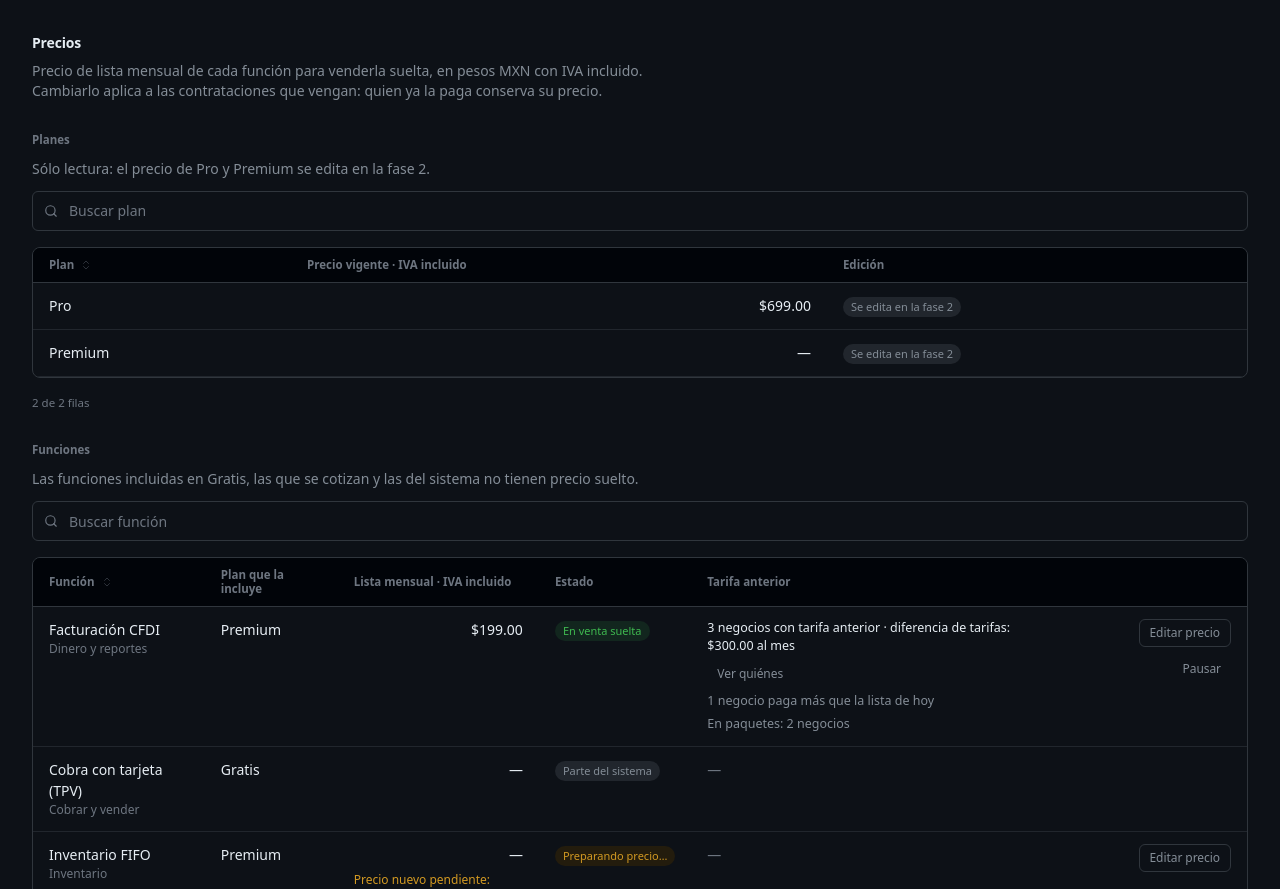
Test: PricingPage › confirms the price change and saves it with the row revision
Expected: the text "Facturación CFDI" is shown, [49,620,160,639]
Click the button with aria-label "Editar precio de Facturación CFDI": (1185, 633) [1138,619,1231,647]
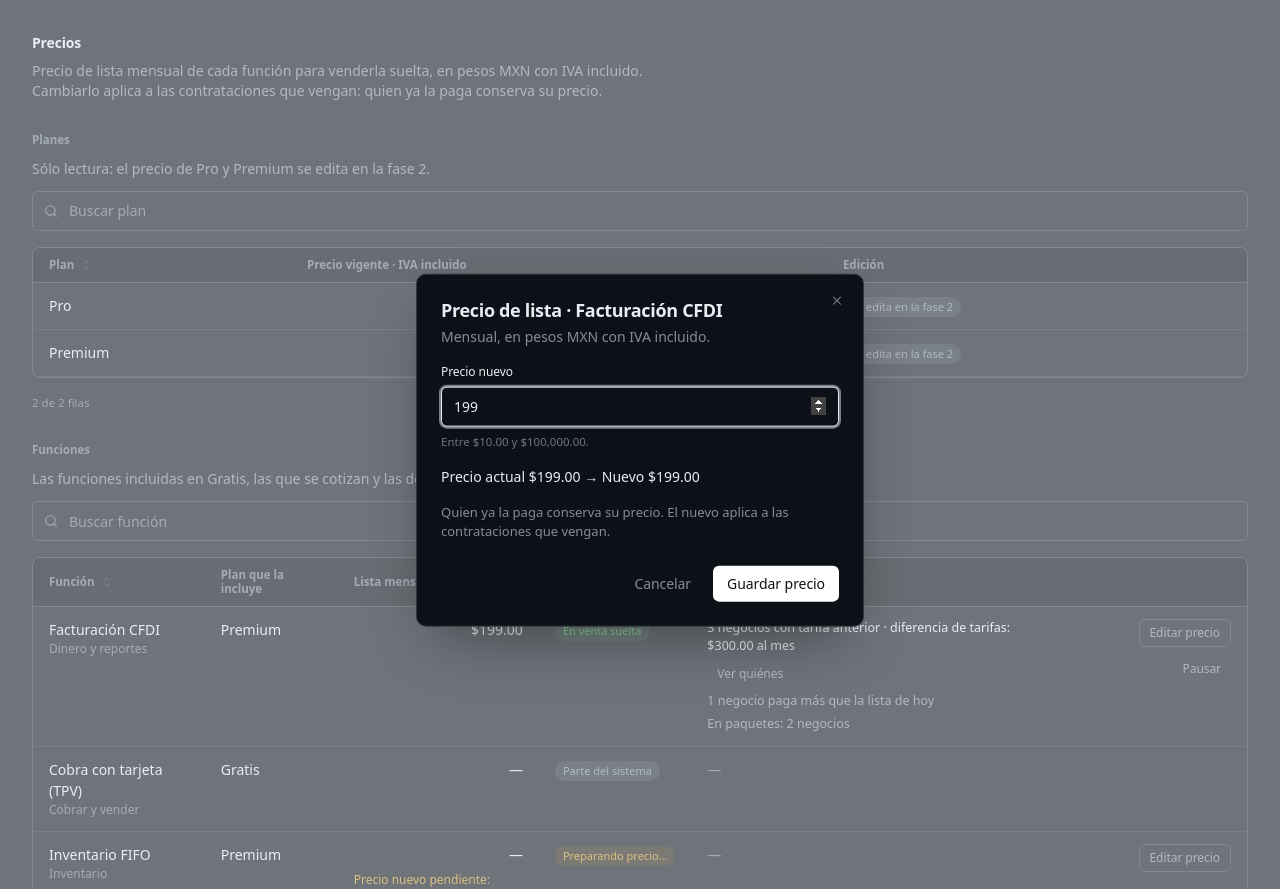
Clear the number field labelled "Precio nuevo": (640, 406) [441,386,839,426]
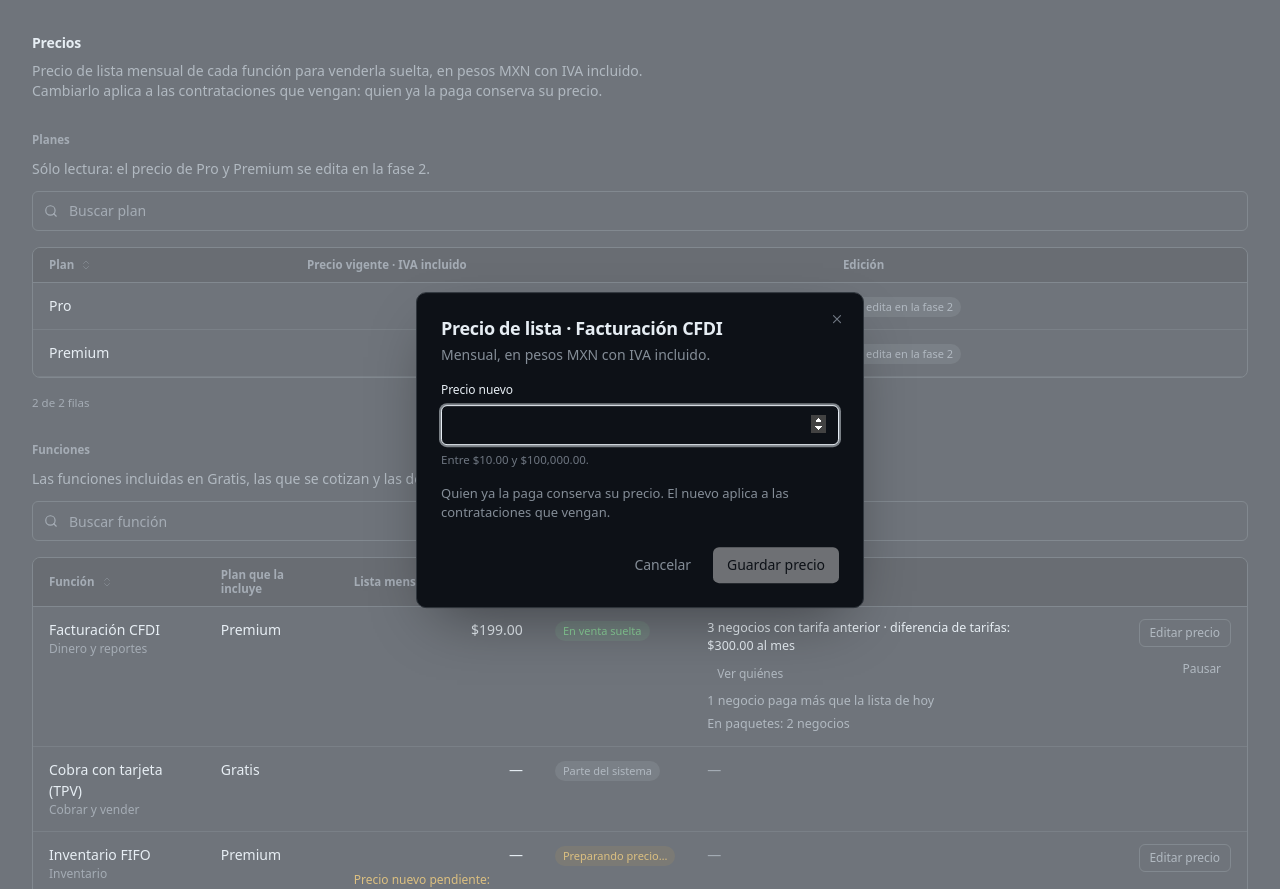
In the number field labelled "Precio nuevo": (640, 425) [441,405,839,445], type "249"
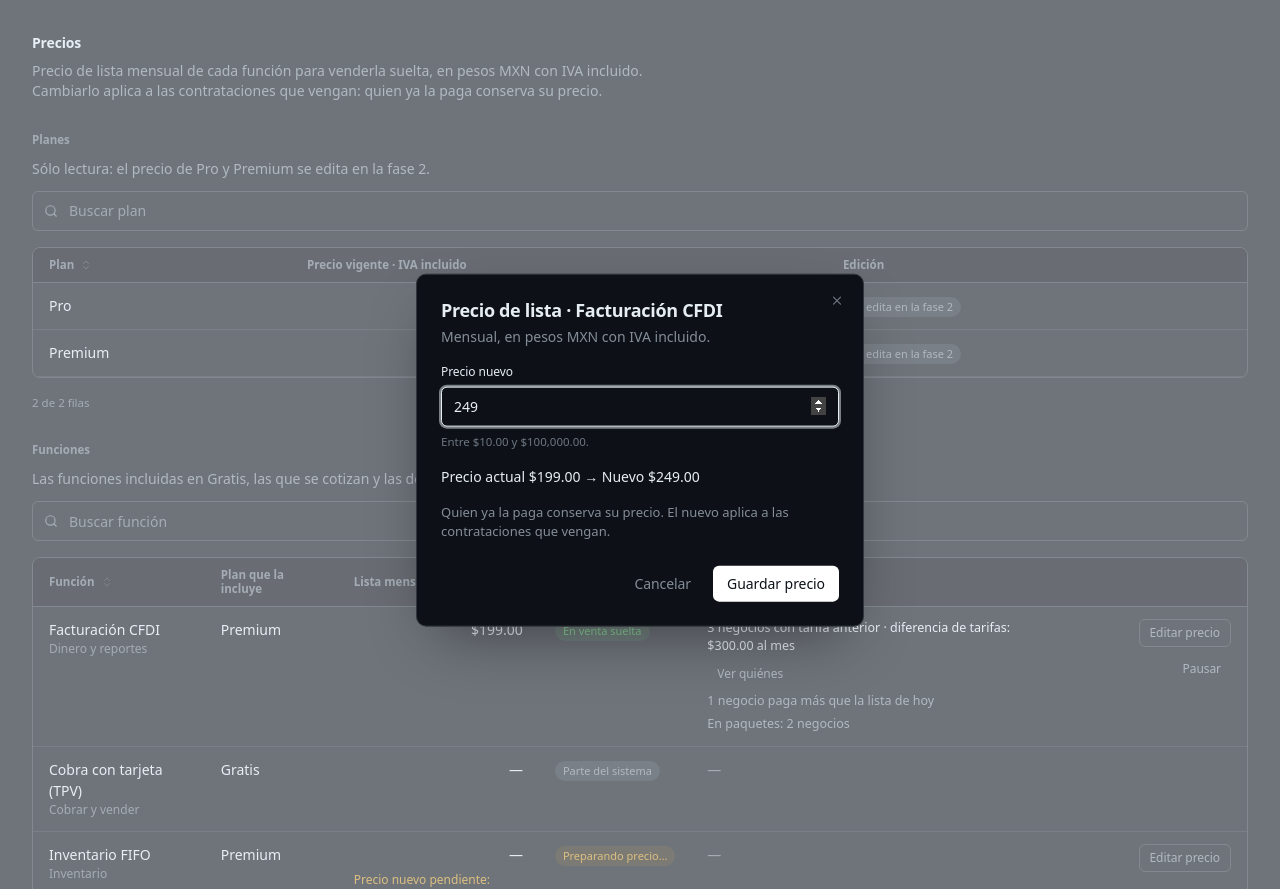
Expected: the text "Quien ya la paga conserva su precio" is shown, [441,502,789,540]
Expected: the text "Precio actual $199.00 → Nuevo $249.00" is shown, [441,466,700,485]
Click the button "Guardar precio": (776, 583) [713,565,839,601]
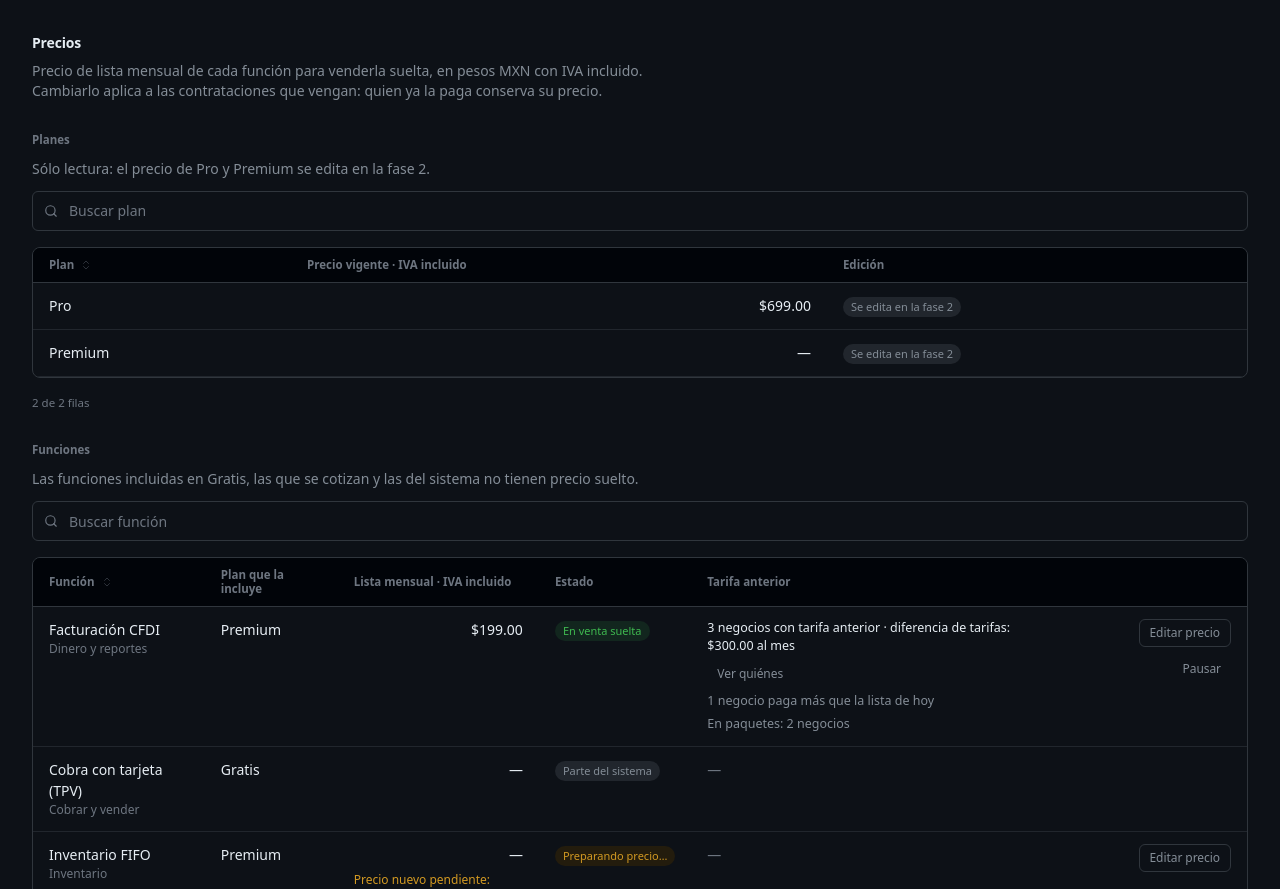
Expected: the dialog is gone
